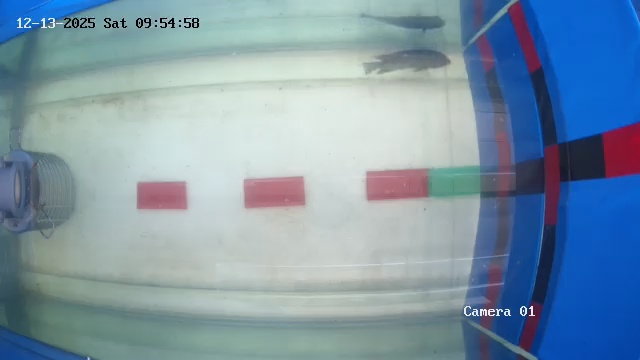fish: (356, 40, 464, 87)
